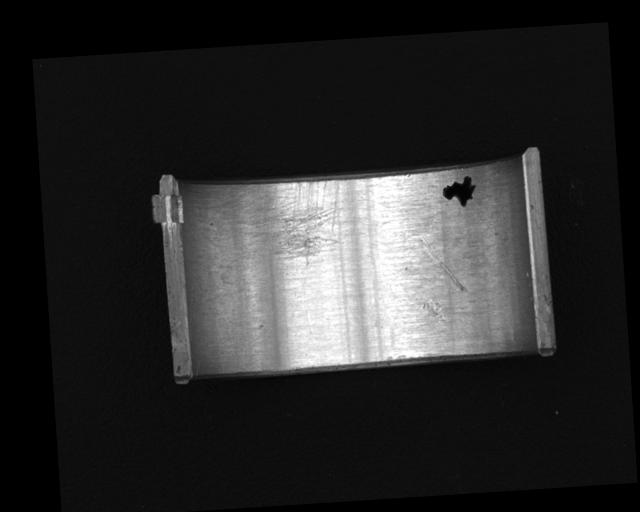blot: (440, 175, 479, 209)
bruise: (421, 298, 447, 324)
nick: (419, 235, 466, 294)
scratch: (214, 177, 346, 272)
